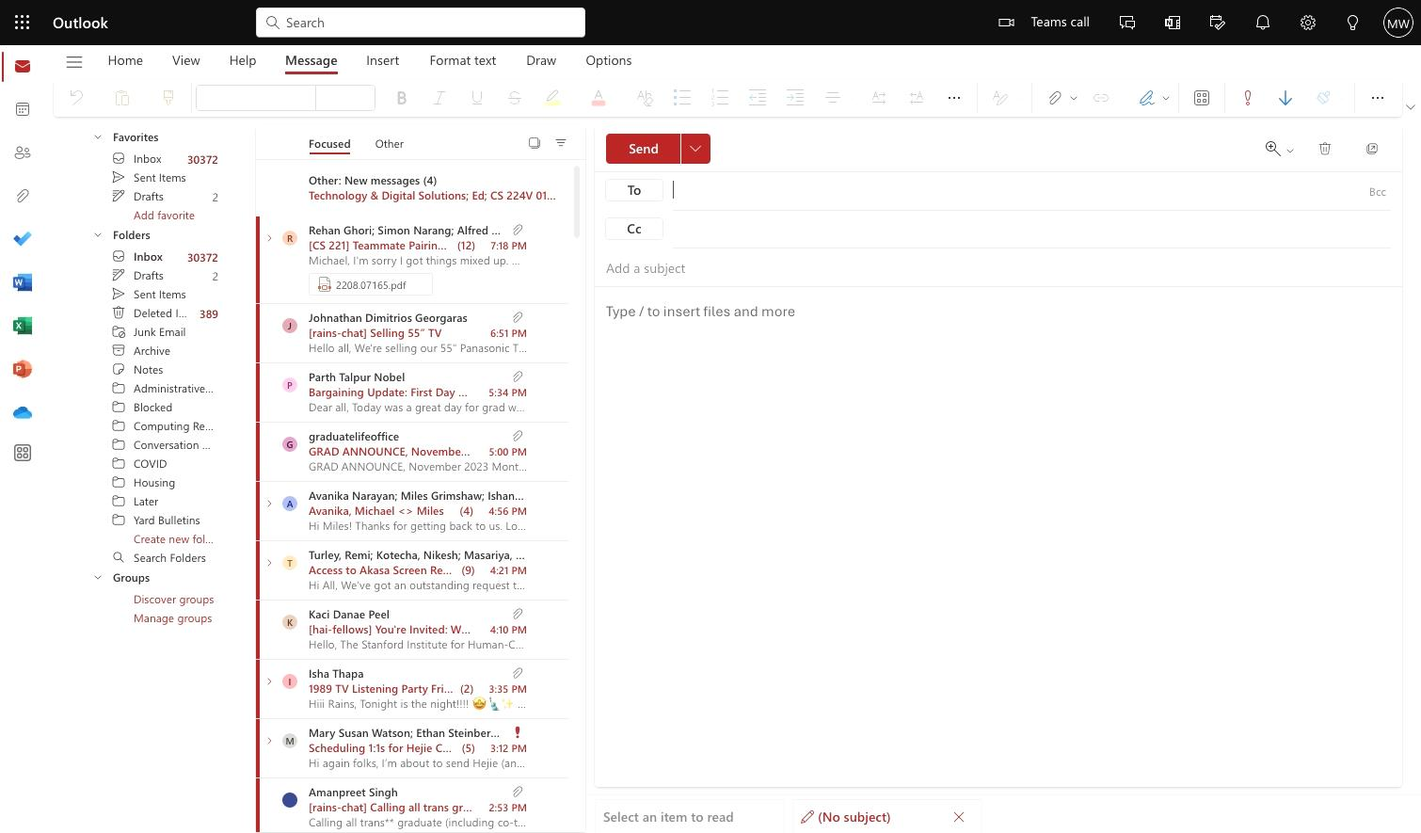webelement: (586, 117, 1420, 832), (255, 159, 584, 831), (605, 301, 1390, 563), (52, 117, 253, 832), (0, 0, 1420, 44), (67, 246, 235, 566), (195, 78, 972, 116), (255, 216, 567, 303), (594, 251, 1367, 281), (255, 362, 567, 422), (255, 540, 567, 600), (255, 303, 567, 362), (255, 422, 567, 481), (255, 481, 567, 540), (255, 600, 567, 659), (255, 659, 567, 718), (255, 718, 567, 777), (67, 118, 235, 223), (255, 777, 567, 833), (92, 44, 646, 73), (672, 217, 1390, 239), (672, 180, 1362, 201), (3, 44, 40, 434), (308, 546, 786, 561), (791, 798, 982, 832), (594, 798, 784, 832), (67, 588, 235, 626), (283, 11, 573, 31), (308, 561, 671, 576), (1035, 78, 1174, 116), (308, 620, 644, 635), (56, 78, 186, 116), (195, 78, 323, 116), (308, 724, 613, 739), (994, 0, 1093, 44), (308, 798, 597, 813), (1228, 78, 1349, 112), (308, 739, 576, 754), (308, 383, 575, 398), (308, 487, 571, 502), (308, 221, 567, 236), (67, 125, 235, 148), (67, 223, 235, 246), (67, 566, 235, 588), (308, 457, 526, 473), (308, 236, 527, 251), (308, 251, 526, 266), (308, 339, 526, 354), (308, 398, 526, 413), (308, 517, 526, 532), (308, 576, 526, 591), (308, 635, 526, 650), (308, 695, 526, 710), (308, 754, 526, 769), (308, 813, 526, 828), (67, 148, 235, 167), (67, 185, 235, 204), (67, 204, 235, 223), (67, 264, 235, 283), (67, 283, 235, 302), (67, 302, 235, 321), (67, 321, 235, 340), (67, 340, 235, 359), (67, 377, 235, 396), (67, 396, 235, 415), (67, 415, 235, 434), (67, 434, 235, 453), (67, 453, 235, 472), (67, 490, 235, 509), (67, 509, 235, 528), (67, 528, 235, 547), (67, 547, 235, 566), (67, 588, 235, 607), (67, 607, 235, 626), (308, 680, 520, 695), (67, 167, 235, 185), (67, 246, 235, 264), (67, 359, 235, 377), (67, 472, 235, 490), (643, 301, 794, 320), (308, 442, 496, 457), (52, 0, 107, 44), (308, 309, 467, 324), (196, 86, 299, 108), (323, 78, 382, 116), (424, 45, 499, 72), (308, 502, 443, 517), (1239, 0, 1285, 44), (308, 324, 441, 339), (1104, 0, 1149, 44), (1149, 0, 1194, 44), (1194, 0, 1239, 44), (1285, 0, 1330, 44), (1330, 0, 1375, 44), (1375, 0, 1420, 44), (0, 0, 44, 44), (308, 121, 350, 163), (280, 45, 341, 72), (110, 128, 217, 143), (110, 226, 217, 241), (110, 569, 217, 584), (295, 131, 362, 153), (934, 78, 972, 116), (1358, 78, 1396, 116), (308, 368, 404, 383), (581, 45, 634, 72), (3, 47, 40, 85), (3, 90, 40, 128), (3, 177, 40, 215), (3, 220, 40, 258), (3, 350, 40, 388), (3, 393, 40, 431), (3, 434, 40, 472), (3, 134, 40, 171), (3, 264, 40, 301), (3, 307, 40, 344), (604, 216, 663, 239), (308, 427, 398, 442), (620, 133, 665, 163), (308, 783, 397, 798), (604, 178, 663, 200), (133, 168, 213, 184), (133, 360, 213, 376), (133, 473, 213, 489), (133, 206, 217, 221), (133, 342, 217, 357), (133, 530, 217, 545), (133, 590, 217, 605), (133, 609, 217, 624), (1259, 134, 1304, 162), (308, 605, 389, 620), (133, 285, 213, 300), (133, 323, 213, 338), (133, 379, 213, 394), (133, 398, 213, 413), (133, 417, 213, 432), (133, 436, 213, 451), (133, 455, 213, 470), (133, 492, 213, 507), (133, 511, 213, 526), (133, 549, 213, 564), (375, 121, 403, 163), (362, 131, 415, 153), (103, 45, 146, 72), (382, 82, 420, 112), (457, 82, 495, 112), (495, 82, 533, 112), (625, 82, 663, 112), (700, 82, 738, 112), (775, 82, 813, 112), (859, 82, 897, 112), (1182, 82, 1220, 112), (1228, 82, 1266, 112), (1305, 133, 1343, 163), (1352, 133, 1390, 163), (149, 82, 186, 112), (420, 82, 457, 112), (663, 82, 700, 112), (738, 82, 775, 112), (897, 82, 934, 112), (1266, 82, 1303, 112), (361, 45, 402, 72), (133, 187, 202, 202), (133, 266, 202, 281), (521, 45, 559, 72), (822, 83, 858, 111), (990, 83, 1026, 111), (1137, 83, 1173, 111), (1313, 83, 1349, 111), (1045, 83, 1080, 111), (315, 86, 359, 108), (58, 45, 88, 77), (168, 45, 203, 72), (225, 45, 260, 72), (679, 133, 710, 163), (428, 53, 495, 66), (133, 304, 189, 319), (278, 430, 308, 457), (278, 489, 308, 516), (278, 667, 308, 694), (308, 665, 362, 680), (278, 224, 308, 250), (278, 312, 308, 338), (278, 371, 308, 397), (278, 549, 308, 575), (278, 608, 308, 634), (278, 727, 308, 753), (278, 786, 308, 812), (1030, 14, 1089, 27), (472, 384, 526, 398), (472, 443, 526, 457), (472, 503, 526, 517), (472, 681, 526, 695), (472, 799, 526, 813), (474, 237, 526, 251), (474, 325, 526, 339), (474, 562, 526, 576), (474, 621, 526, 635), (474, 740, 526, 754), (284, 53, 337, 66), (944, 79, 963, 115), (1367, 79, 1386, 115), (547, 128, 573, 154), (945, 803, 971, 829), (1164, 0, 1179, 44), (1209, 0, 1224, 44), (1300, 0, 1315, 44), (1345, 0, 1360, 44), (133, 150, 177, 165), (133, 248, 177, 263), (605, 301, 638, 320), (584, 53, 631, 66), (1366, 176, 1387, 204), (78, 124, 106, 144), (78, 222, 106, 242), (78, 565, 106, 585), (158, 83, 177, 111), (391, 83, 410, 111), (429, 83, 448, 111), (467, 83, 486, 111), (504, 83, 523, 111), (634, 83, 653, 111), (672, 83, 691, 111), (906, 83, 925, 111), (1191, 83, 1210, 111), (1237, 83, 1256, 111), (1275, 83, 1294, 111), (710, 83, 728, 111), (869, 83, 887, 111), (186, 248, 217, 264), (66, 84, 85, 110), (112, 84, 131, 110), (542, 84, 561, 110), (588, 84, 607, 110), (1091, 84, 1110, 110), (624, 141, 662, 154), (520, 132, 547, 150), (106, 53, 142, 66), (186, 151, 217, 166), (88, 82, 103, 112), (134, 82, 149, 112), (564, 82, 579, 112), (610, 82, 625, 112), (1112, 82, 1127, 112), (365, 53, 398, 66), (359, 84, 375, 110), (525, 53, 555, 66), (300, 84, 315, 110), (171, 53, 200, 66), (12, 56, 31, 75), (12, 100, 31, 119), (12, 143, 31, 162), (12, 186, 31, 205), (12, 443, 31, 462), (685, 138, 704, 157), (229, 53, 256, 66), (1401, 97, 1418, 116), (199, 305, 217, 320), (456, 236, 474, 251), (281, 376, 296, 392), (1320, 133, 1328, 163), (1367, 133, 1375, 163), (88, 89, 103, 104), (134, 89, 149, 104), (564, 89, 579, 104), (610, 89, 625, 104), (1112, 89, 1127, 104), (261, 230, 276, 245), (281, 230, 296, 245), (281, 317, 296, 332), (281, 436, 296, 451), (261, 495, 276, 510), (281, 495, 296, 510), (261, 554, 276, 569), (281, 554, 296, 569), (281, 614, 296, 629), (261, 673, 276, 688), (281, 673, 296, 688), (261, 732, 276, 747), (281, 732, 296, 747), (281, 792, 296, 807), (458, 502, 472, 517), (460, 561, 474, 576), (459, 680, 473, 695), (460, 739, 474, 754), (1368, 184, 1385, 196), (207, 186, 217, 204), (207, 265, 217, 283), (638, 301, 643, 320), (212, 188, 217, 203), (212, 267, 217, 282), (75, 97, 76, 98), (121, 97, 122, 98), (401, 97, 402, 98), (476, 97, 477, 98), (551, 97, 552, 98), (598, 97, 599, 98), (644, 97, 645, 98), (681, 97, 682, 98), (719, 97, 720, 98), (840, 97, 841, 98), (1008, 97, 1009, 98), (1062, 97, 1063, 98), (1100, 97, 1101, 98), (1155, 97, 1156, 98), (1201, 97, 1202, 98), (1247, 97, 1248, 98), (1331, 97, 1332, 98), (67, 118, 68, 119), (217, 149, 218, 150), (217, 186, 218, 187), (74, 255, 75, 256), (217, 247, 218, 248), (217, 265, 218, 266), (217, 303, 218, 304), (604, 132, 605, 133), (168, 97, 168, 98), (439, 97, 439, 98), (1285, 97, 1285, 98)
